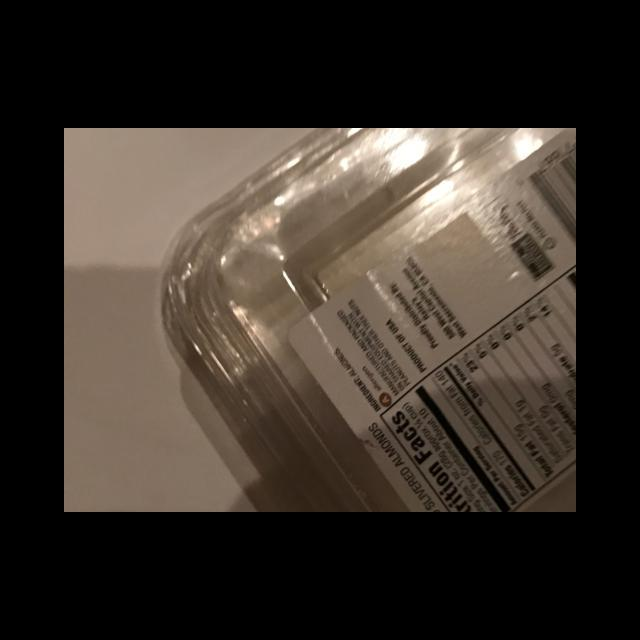plastic: (164, 128, 575, 511)
